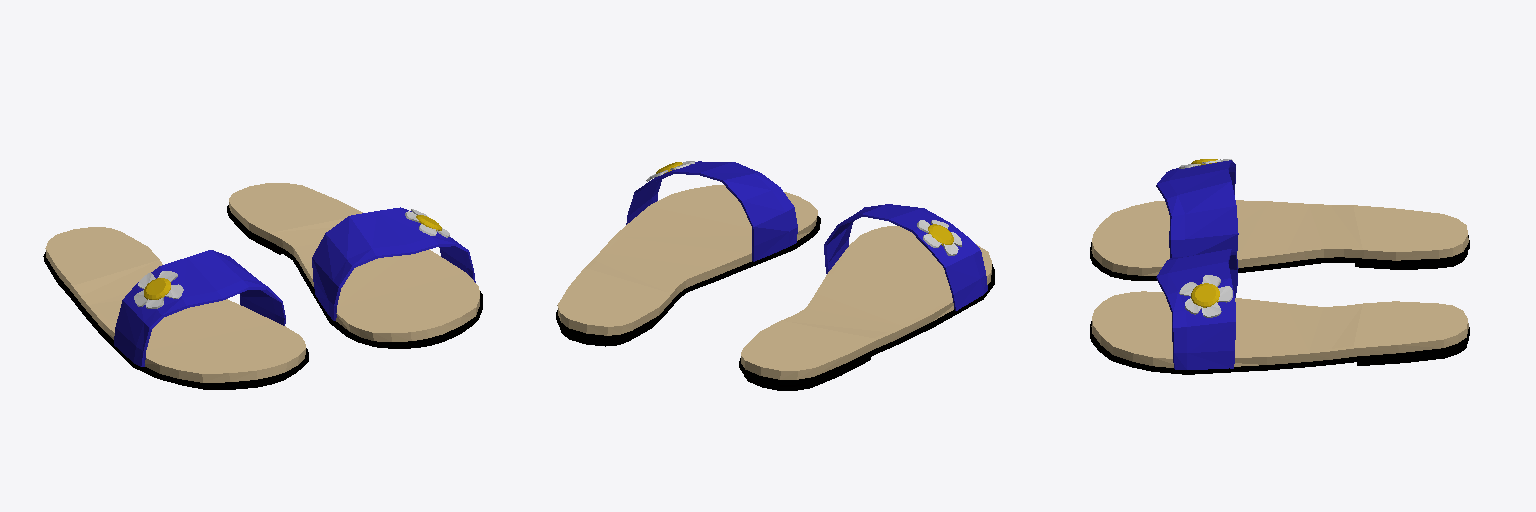
The model's file is flipFlops.obj.
3 renders of one model, left to right at view 1: azimuth 30°, elevation 25°; view 2: azimuth 150°, elevation 25°; view 3: azimuth 270°, elevation 25°, orthographic.
Parts seen in each view (by area): view 1: rightFoot, leftFoot; view 2: leftFoot, rightFoot; view 3: leftFoot, rightFoot.
Part boxes in pixels (bbox=[...]): rightFoot: bbox=[43, 227, 308, 389]; leftFoot: bbox=[227, 183, 482, 348]; leftFoot: bbox=[556, 161, 820, 346]; rightFoot: bbox=[739, 204, 994, 390]; leftFoot: bbox=[1090, 249, 1469, 374]; rightFoot: bbox=[1090, 159, 1469, 280].
Size of the model in its own units: 19.88 by 4.59 by 19.28.